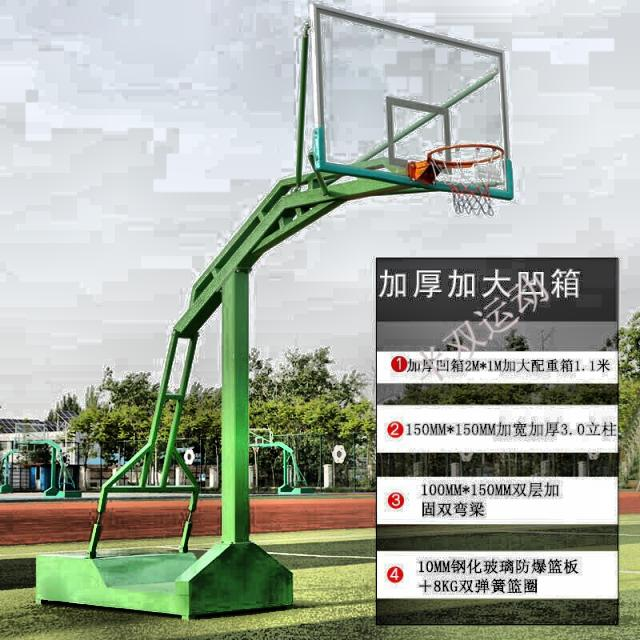rim: (427, 141, 508, 216)
